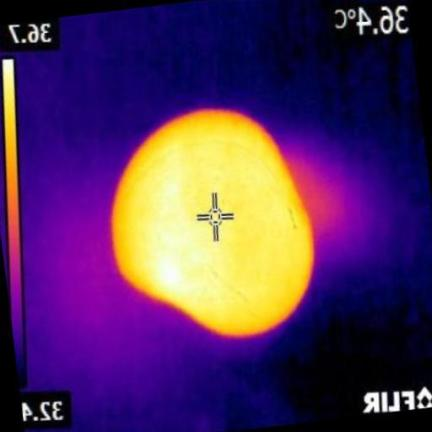mango: (112, 108, 313, 335)
